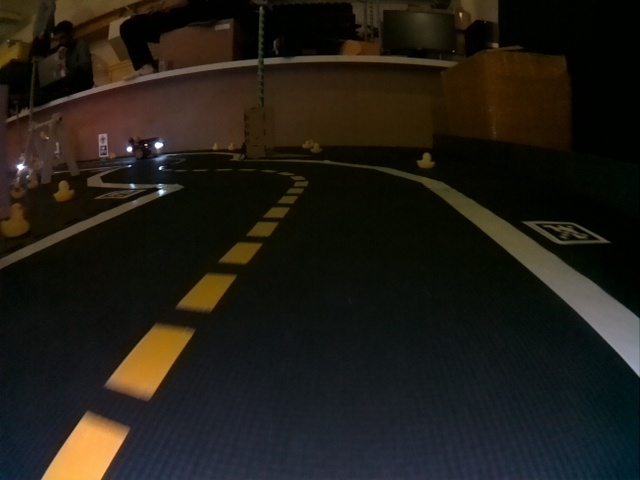Duckie: (5, 204, 29, 236), (56, 184, 74, 201), (417, 153, 434, 168), (11, 184, 25, 197), (313, 143, 322, 153), (27, 178, 37, 187), (303, 140, 312, 148), (212, 142, 220, 151), (228, 145, 236, 152)
Duckiebot: (127, 138, 163, 159)
Intersection sign: (99, 136, 108, 144)
QR code: (524, 221, 611, 246), (95, 189, 141, 198), (99, 146, 108, 155)
